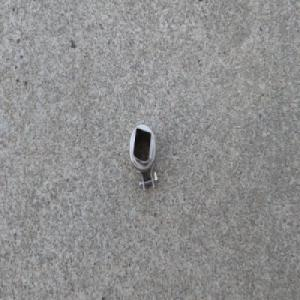MetalPart: (128, 122, 159, 197)
